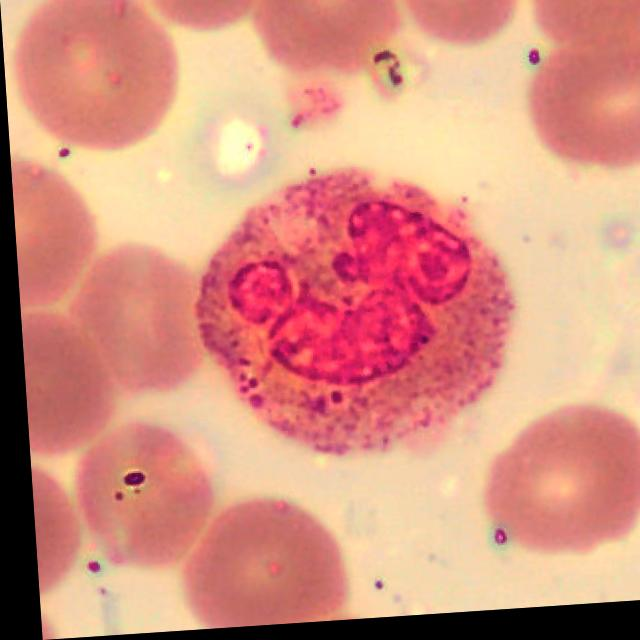Neutrofilo segmentado: (190, 172, 508, 460)
